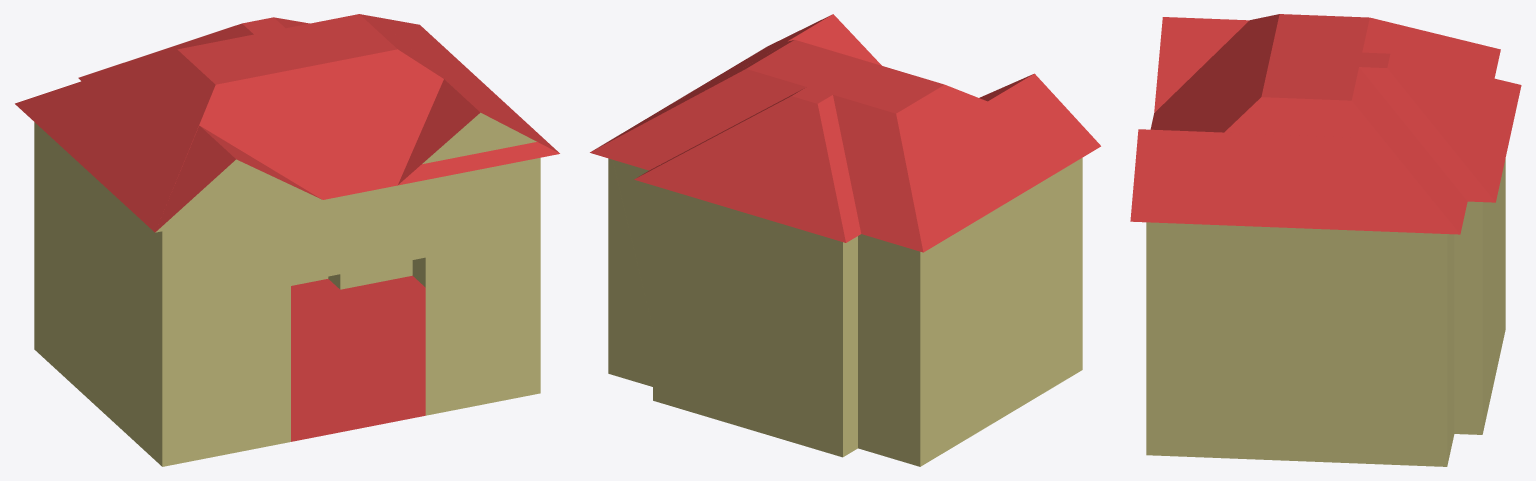
3 views of the same model, side by side, from view 1: azimuth 30°, elevation 25°; view 2: azimuth 150°, elevation 25°; view 3: azimuth 270°, elevation 25° (orthographic). The views are drawn at different scales.
Size of the model in its own units: 24 by 20.04 by 17.94.
